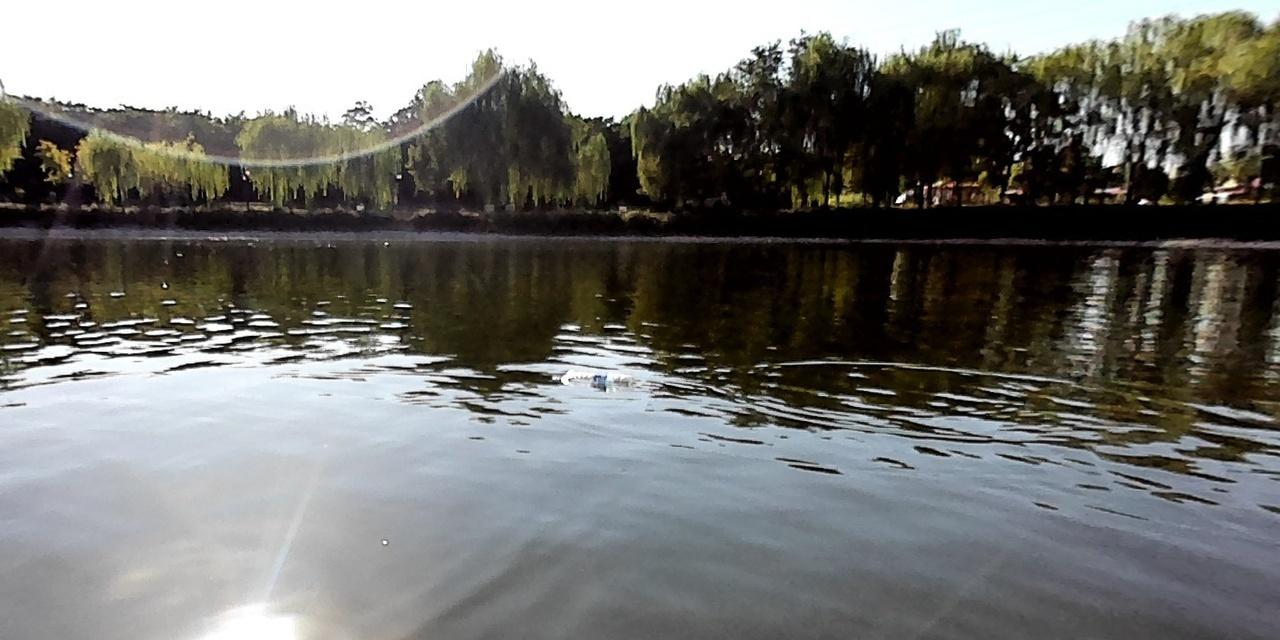bottle: (546, 370, 640, 391)
